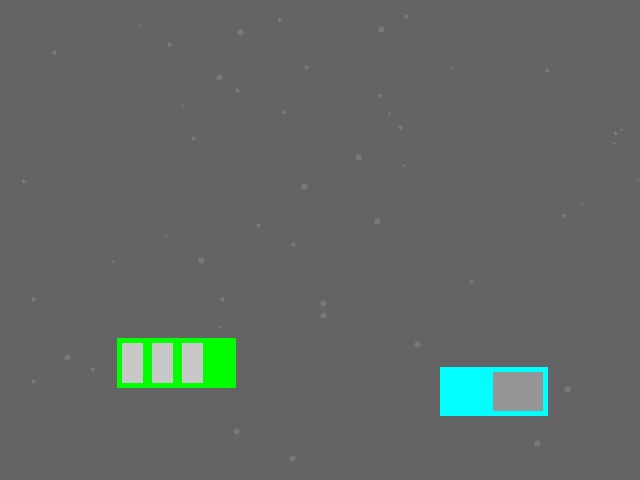bus: (117, 338, 235, 387)
truck: (440, 367, 547, 415)
